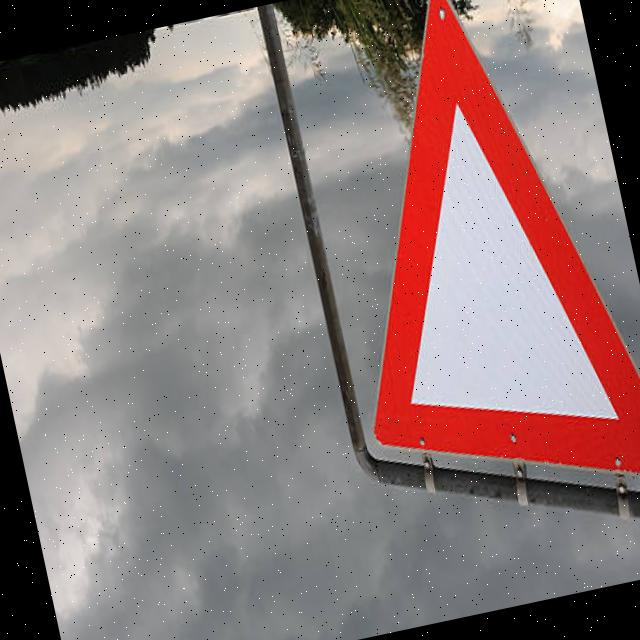give_way: (277, 0, 640, 561)
